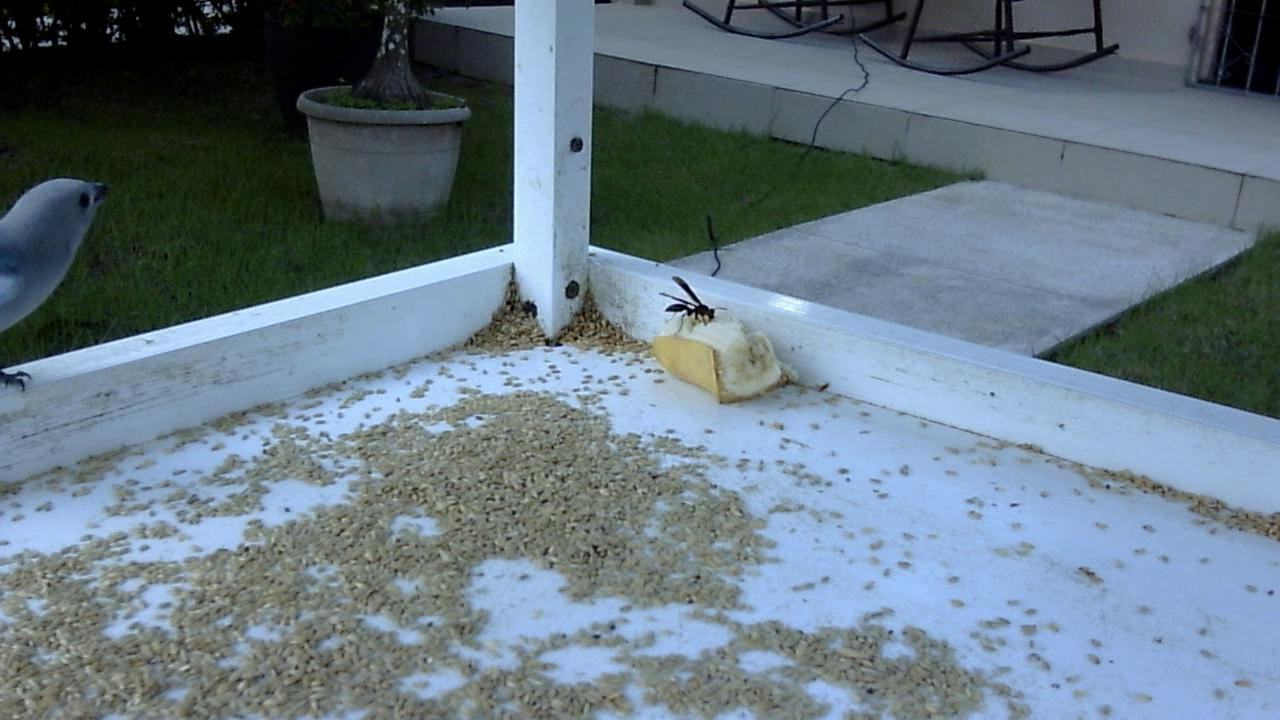sanhaco_da_amazonia: (1, 168, 116, 401)
